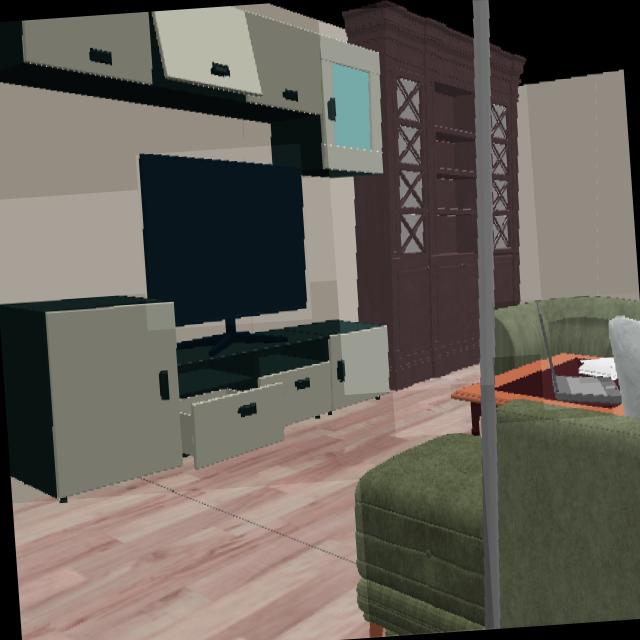book: (579, 357, 616, 380)
bookshelf: (328, 7, 525, 391)
cabinet: (0, 296, 390, 499), (0, 3, 384, 177)
laptop: (537, 304, 621, 405)
monitor: (137, 155, 306, 327)
pillow: (608, 317, 640, 420)
sofa: (496, 400, 640, 627), (359, 434, 484, 635), (494, 298, 640, 386)
table: (496, 352, 622, 414), (451, 383, 480, 404)
